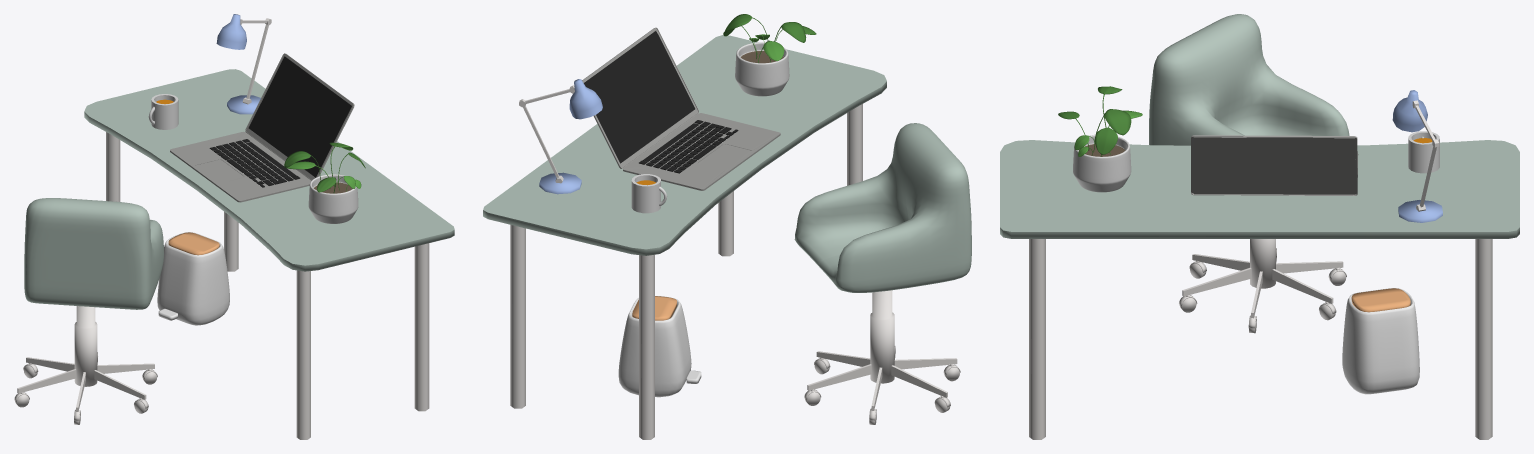
The model's file is officeScene.glb.
3 renders of one model, left to right at view 1: azimuth 30°, elevation 25°; view 2: azimuth 150°, elevation 25°; view 3: azimuth 270°, elevation 25°, orthographic. The views are drawn at different scales.
Visible parts, largest first — view 1: 桌子, Chair, huitugou_5160_219, mac-screen, mac-body, Floor Items.001, Floor Items, Table Stuff.001, mac-keys, Table Stuff.002, Floor Items.002, pointLight (+1 smaller); view 2: 桌子, Chair, huitugou_5160_219, mac-screen, mac-body, Floor Items, Floor Items.001, Table Stuff.001, mac-keys, Table Stuff.002, pointLight, 台灯 (+2 smaller); view 3: 桌子, Chair, 立方体, huitugou_5160_219, Floor Items.001, Floor Items, Table Stuff.001, Floor Items.002, mac-body, Table Stuff.002, pointLight, 台灯.
Part boxes in pixels (bbox=[...]): 桌子: bbox=[84, 69, 454, 271]; Chair: bbox=[24, 198, 163, 309]; huitugou_5160_219: bbox=[106, 132, 429, 439]; mac-screen: bbox=[248, 56, 351, 177]; mac-body: bbox=[170, 53, 354, 202]; Floor Items.001: bbox=[157, 232, 229, 325]; Floor Items: bbox=[14, 306, 157, 424]; Table Stuff.001: bbox=[284, 142, 365, 223]; mac-keys: bbox=[209, 139, 300, 187]; Table Stuff.002: bbox=[148, 94, 178, 129]; Floor Items.002: bbox=[168, 232, 219, 255]; pointLight: bbox=[216, 14, 246, 49]; 桌子: bbox=[483, 35, 886, 255]; Chair: bbox=[794, 123, 971, 292]; huitugou_5160_219: bbox=[510, 104, 862, 439]; mac-screen: bbox=[584, 31, 695, 163]; mac-body: bbox=[582, 27, 780, 190]; Floor Items: bbox=[804, 290, 960, 424]; Floor Items.001: bbox=[618, 296, 701, 397]; Table Stuff.001: bbox=[723, 14, 816, 96]; mac-keys: bbox=[639, 120, 738, 173]; Table Stuff.002: bbox=[631, 174, 667, 213]; pointLight: bbox=[569, 79, 602, 119]; 台灯: bbox=[539, 172, 581, 194]; 桌子: bbox=[1000, 140, 1519, 238]; Chair: bbox=[1149, 14, 1349, 145]; 立方体: bbox=[1193, 137, 1355, 194]; huitugou_5160_219: bbox=[1029, 239, 1492, 439]; Floor Items.001: bbox=[1342, 288, 1419, 394]; Floor Items: bbox=[1179, 239, 1346, 333]; Table Stuff.001: bbox=[1058, 86, 1142, 192]; Floor Items.002: bbox=[1351, 288, 1410, 312]; mac-body: bbox=[1191, 135, 1358, 195]; Table Stuff.002: bbox=[1408, 131, 1439, 173]; pointLight: bbox=[1392, 90, 1427, 132]; 台灯: bbox=[1398, 200, 1442, 222].
Bounding box in the file's own units: 4.46 × 3.64 × 5.18.
